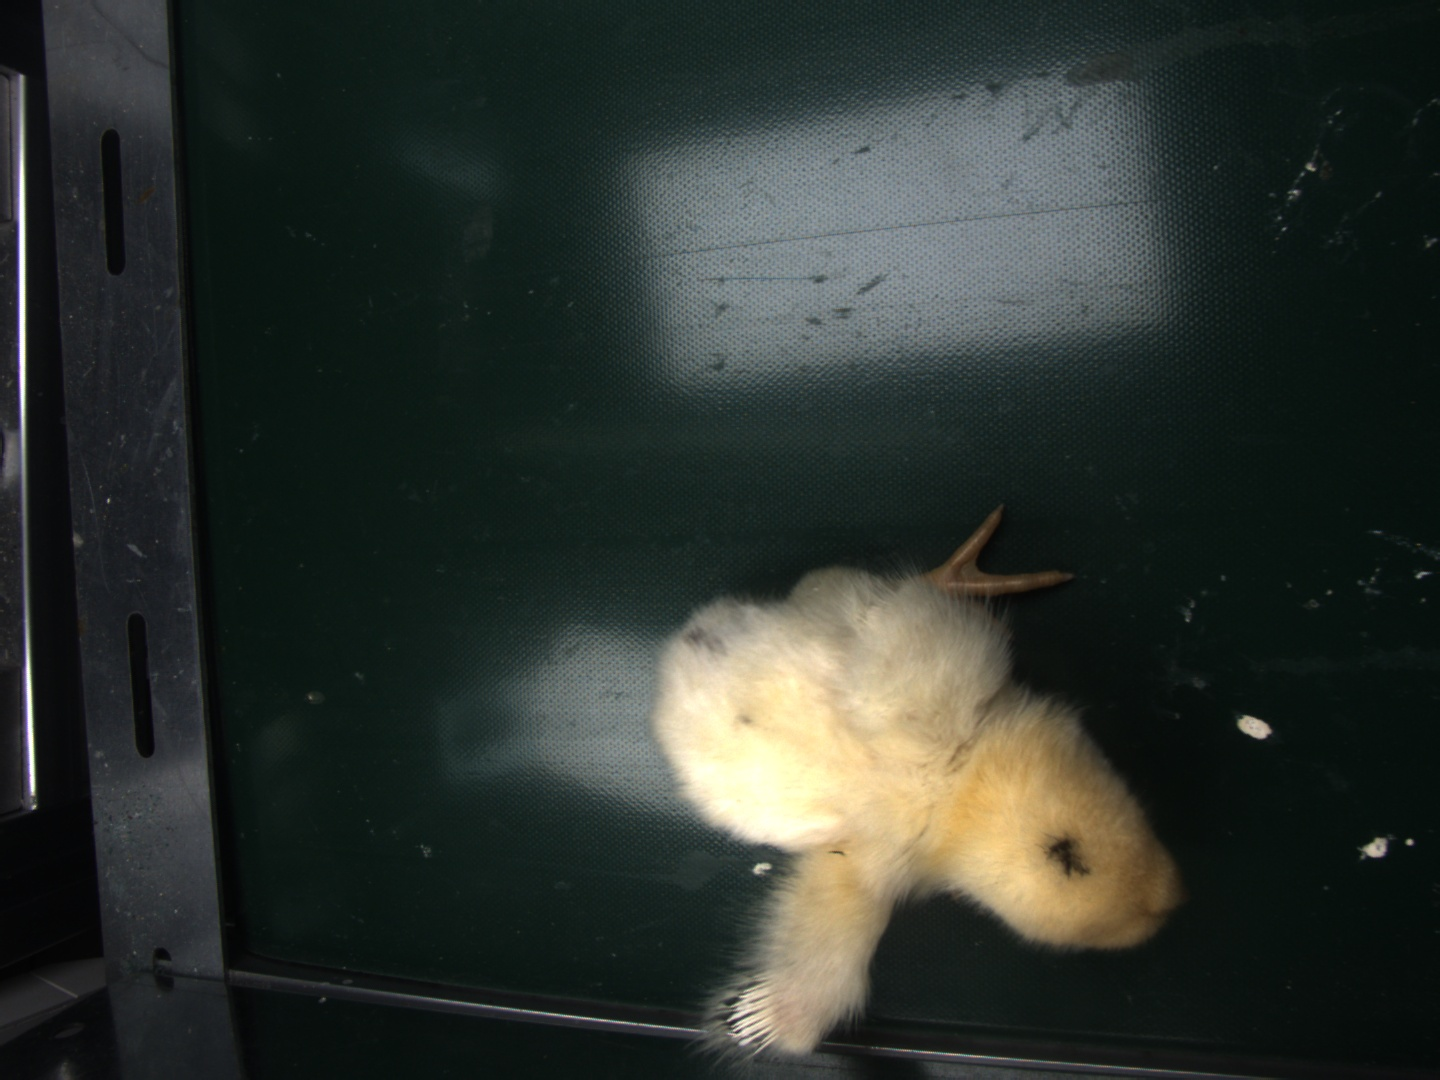male: (727, 980, 782, 1051)
